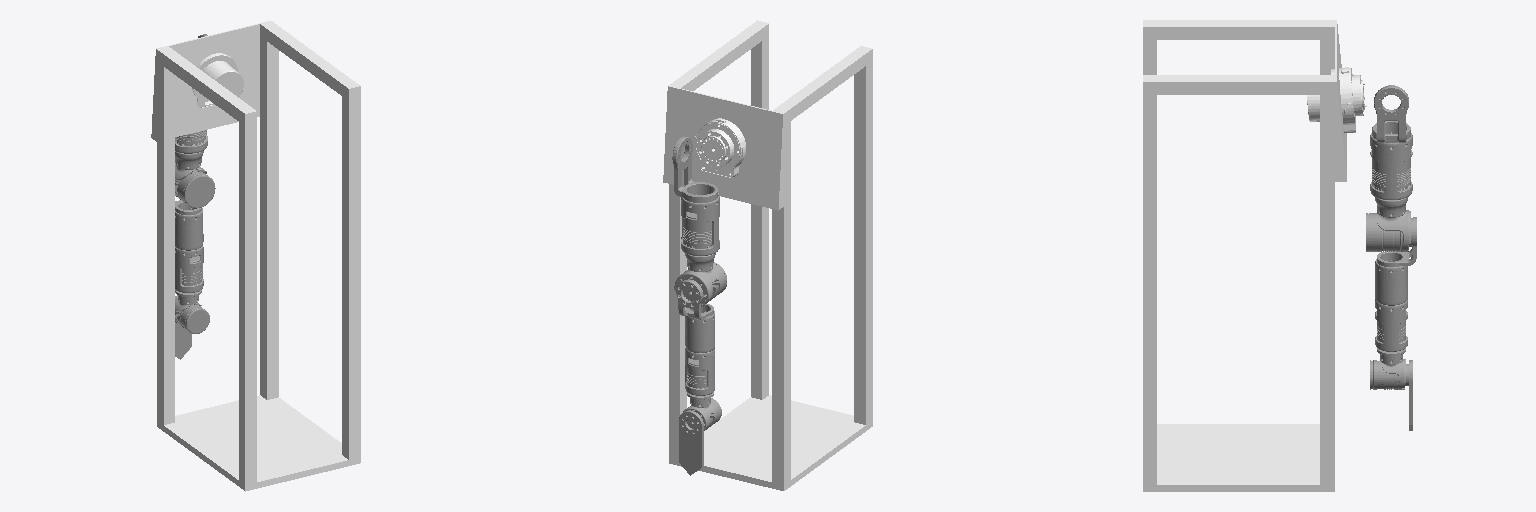
robot.urdf — eyou:
<?xml version="1.0" encoding="utf-8"?>
<!-- This URDF was automatically created by SolidWorks to URDF Exporter! Originally created by Stephen Brawner (brawner@gmail.com) 
     Commit Version: 1.6.0-4-g7f85cfe  Build Version: 1.6.7995.38578
     For more information, please see http://wiki.ros.org/sw_urdf_exporter -->
<robot
  name="eyou">
  <link
    name="base_link">
    <inertial>
      <origin
        xyz="2.76129925816843E-07 0.0686860812481636 0.387526177799413"
        rpy="0 0 0" />
      <mass
        value="3.3451250811703" />
      <inertia
        ixx="0.0346228808664145"
        ixy="-2.16005356441171E-08"
        ixz="3.20436571976386E-08"
        iyy="0.0366794538574689"
        iyz="8.62174734568158E-05"
        izz="0.00965300302293456" />
    </inertial>
    <visual>
      <origin
        xyz="0 0 0"
        rpy="0 0 0" />
      <geometry>
        <mesh
          filename="package://eyou_description/meshes/base_link.STL" />
      </geometry>
      <material
        name="">
        <color
          rgba="1 1 1 1" />
      </material>
    </visual>
    <collision>
      <origin
        xyz="0 0 0"
        rpy="0 0 0" />
      <geometry>
        <mesh
          filename="package://eyou_description/meshes/base_link.STL" />
      </geometry>
    </collision>
  </link>
  <link
    name="link_1">
    <inertial>
      <origin
        xyz="-7.31619633209668E-08 -0.00621067030176778 0.0358684167081429"
        rpy="0 0 0" />
      <mass
        value="0.545146085003045" />
      <inertia
        ixx="0.000276834378213259"
        ixy="-3.37178416921734E-10"
        ixz="1.53946665886174E-08"
        iyy="0.000223041975013736"
        iyz="-2.52469612779214E-06"
        izz="0.000266028101242945" />
    </inertial>
    <visual>
      <origin
        xyz="0 0 0"
        rpy="0 0 0" />
      <geometry>
        <mesh
          filename="package://eyou_description/meshes/link_1.STL" />
      </geometry>
      <material
        name="">
        <color
          rgba="0.698039215686274 0.698039215686274 0.698039215686274 1" />
      </material>
    </visual>
    <collision>
      <origin
        xyz="0 0 0"
        rpy="0 0 0" />
      <geometry>
        <mesh
          filename="package://eyou_description/meshes/link_1.STL" />
      </geometry>
    </collision>
  </link>
  <joint
    name="joint_1"
    type="revolute">
    <origin
      xyz="0 0.16743 0.54426"
      rpy="0 -1.481 -1.5708" />
    <parent
      link="base_link" />
    <child
      link="link_1" />
    <axis
      xyz="0 0 1" />
    <limit
      lower="-3.14"
      upper="3.14"
      effort="20"
      velocity="20" />
  </joint>
  <link
    name="link_2">
    <inertial>
      <origin
        xyz="0.100980933953346 -4.13020112555174E-09 -0.0232814027120222"
        rpy="0 0 0" />
      <mass
        value="0.566804542646458" />
      <inertia
        ixx="0.000240973529471711"
        ixy="1.09062876207421E-10"
        ixz="3.51793517049888E-05"
        iyy="0.000395801602253235"
        iyz="1.00369189049011E-08"
        izz="0.000373883630207562" />
    </inertial>
    <visual>
      <origin
        xyz="0 0 0"
        rpy="0 0 0" />
      <geometry>
        <mesh
          filename="package://eyou_description/meshes/link_2.STL" />
      </geometry>
      <material
        name="">
        <color
          rgba="0.698039215686274 0.698039215686274 0.698039215686274 1" />
      </material>
    </visual>
    <collision>
      <origin
        xyz="0 0 0"
        rpy="0 0 0" />
      <geometry>
        <mesh
          filename="package://eyou_description/meshes/link_2.STL" />
      </geometry>
    </collision>
  </link>
  <joint
    name="joint_2"
    type="revolute">
    <origin
      xyz="0 0.025999 0.0385"
      rpy="1.5708 0.089758 -3.1416" />
    <parent
      link="link_1" />
    <child
      link="link_2" />
    <axis
      xyz="0 0 1" />
    <limit
      lower="-3.14"
      upper="3.14"
      effort="20"
      velocity="20" />
  </joint>
  <link
    name="link_3">
    <inertial>
      <origin
        xyz="-4.16208498082496E-08 0.00348518308627509 0.0509551652689186"
        rpy="0 0 0" />
      <mass
        value="0.487960261130082" />
      <inertia
        ixx="0.000209069248211813"
        ixy="-4.50479264507862E-10"
        ixz="9.81343317332429E-09"
        iyy="0.00015778992400644"
        iyz="2.59592879673137E-06"
        izz="0.00022167240994763" />
    </inertial>
    <visual>
      <origin
        xyz="0 0 0"
        rpy="0 0 0" />
      <geometry>
        <mesh
          filename="package://eyou_description/meshes/link_3.STL" />
      </geometry>
      <material
        name="">
        <color
          rgba="0.698039215686274 0.698039215686274 0.698039215686274 1" />
      </material>
    </visual>
    <collision>
      <origin
        xyz="0 0 0"
        rpy="0 0 0" />
      <geometry>
        <mesh
          filename="package://eyou_description/meshes/link_3.STL" />
      </geometry>
    </collision>
  </link>
  <joint
    name="joint_3"
    type="revolute">
    <origin
      xyz="0.1505 0 -0.026"
      rpy="0 -1.5708 -3.1416" />
    <parent
      link="link_2" />
    <child
      link="link_3" />
    <axis
      xyz="0 0 1" />
    <limit
      lower="-3.14"
      upper="3.14"
      effort="20"
      velocity="20" />
  </joint>
  <link
    name="link_4">
    <inertial>
      <origin
        xyz="0.11386250672796 3.86029971592906E-08 -0.0268390802579066"
        rpy="0 0 0" />
      <mass
        value="0.339977479345778" />
      <inertia
        ixx="0.00010070279663771"
        ixy="3.56293621305165E-10"
        ixz="1.19276464983693E-05"
        iyy="0.000154878961476975"
        iyz="-3.6402283078032E-09"
        izz="0.000150924003373493" />
    </inertial>
    <visual>
      <origin
        xyz="0 0 0"
        rpy="0 0 0" />
      <geometry>
        <mesh
          filename="package://eyou_description/meshes/link_4.STL" />
      </geometry>
      <material
        name="">
        <color
          rgba="0.698039215686274 0.698039215686274 0.698039215686274 1" />
      </material>
    </visual>
    <collision>
      <origin
        xyz="0 0 0"
        rpy="0 0 0" />
      <geometry>
        <mesh
          filename="package://eyou_description/meshes/link_4.STL" />
      </geometry>
    </collision>
  </link>
  <joint
    name="joint_4"
    type="revolute">
    <origin
      xyz="0 -0.028999 0.0575"
      rpy="-0.29071 -1.5708 1.8615" />
    <parent
      link="link_3" />
    <child
      link="link_4" />
    <axis
      xyz="0 0 1" />
    <limit
      lower="-3.14"
      upper="3.14"
      effort="20"
      velocity="20" />
  </joint>
  <link
    name="link_5">
    <inertial>
      <origin
        xyz="1.72462451261422E-07 0.00399188080525967 0.0363611309832228"
        rpy="0 0 0" />
      <mass
        value="0.231241750036395" />
      <inertia
        ixx="6.29003401983138E-05"
        ixy="-4.90047970495538E-10"
        ixz="6.12448538456648E-09"
        iyy="4.3333639583119E-05"
        iyz="5.69065551862779E-07"
        izz="6.59580049014524E-05" />
    </inertial>
    <visual>
      <origin
        xyz="0 0 0"
        rpy="0 0 0" />
      <geometry>
        <mesh
          filename="package://eyou_description/meshes/link_5.STL" />
      </geometry>
      <material
        name="">
        <color
          rgba="0.698039215686274 0.698039215686274 0.698039215686274 1" />
      </material>
    </visual>
    <collision>
      <origin
        xyz="0 0 0"
        rpy="0 0 0" />
      <geometry>
        <mesh
          filename="package://eyou_description/meshes/link_5.STL" />
      </geometry>
    </collision>
  </link>
  <joint
    name="joint_5"
    type="revolute">
    <origin
      xyz="0.1708 0 -0.029"
      rpy="-1.5708 0 -1.5708" />
    <parent
      link="link_4" />
    <child
      link="link_5" />
    <axis
      xyz="0 0 1" />
    <limit
      lower="-3.14"
      upper="3.14"
      effort="20"
      velocity="20" />
  </joint>
  <link
    name="link_6">
    <inertial>
      <origin
        xyz="0.0322169838813506 3.58598647869224E-13 0.00298456390958041"
        rpy="0 0 0" />
      <mass
        value="0.0568436477066974" />
      <inertia
        ixx="7.50684331207047E-06"
        ixy="1.45545518194372E-16"
        ixz="-2.826858912056E-08"
        iyy="3.8145735025738E-05"
        iyz="1.11071701257717E-16"
        izz="4.5312861142806E-05" />
    </inertial>
    <visual>
      <origin
        xyz="0 0 0"
        rpy="0 0 0" />
      <geometry>
        <mesh
          filename="package://eyou_description/meshes/link_6.STL" />
      </geometry>
      <material
        name="">
        <color
          rgba="0.698039215686274 0.698039215686274 0.698039215686274 1" />
      </material>
    </visual>
    <collision>
      <origin
        xyz="0 0 0"
        rpy="0 0 0" />
      <geometry>
        <mesh
          filename="package://eyou_description/meshes/link_6.STL" />
      </geometry>
    </collision>
  </link>
  <joint
    name="joint_6"
    type="revolute">
    <origin
      xyz="0 -0.0233 0.041"
      rpy="1.5708 -1.5708 0" />
    <parent
      link="link_5" />
    <child
      link="link_6" />
    <axis
      xyz="0 0 1" />
    <limit
      lower="-3.14"
      upper="3.14"
      effort="20"
      velocity="20" />
  </joint>
  <link name="grasp_point" />
  <joint name="grasp_joint" type="fixed">
      <parent link="link_6" />
      <child link="grasp_point" />
      <origin xyz="0.1 0 0" rpy="1.5708 -1.5708 1.5708" />
  </joint>
</robot>

--- What the picture shows (computed from the rendered views, not written in the file) ---
The picture shows the robot from 3 angles, left to right: view 1: azimuth 30°, elevation 25°; view 2: azimuth 150°, elevation 25°; view 3: azimuth 270°, elevation 25°; orthographic projection.
Robot: eyou — 8 links, 7 joints (6 revolute, 1 fixed); root link base_link; default pose: every joint at zero.
Visible links, largest first — view 1: base_link, link_4, link_3, link_5, link_2; view 2: base_link, link_2, link_4, link_3, link_6, link_5; view 3: base_link, link_2, link_4, link_3, link_5.
Link boxes in pixels (box(x1,y1,x2,y2)): base_link: box(151, 21, 360, 491); link_4: box(175, 200, 203, 292); link_3: box(175, 151, 215, 207); link_5: box(175, 290, 209, 333); link_2: box(175, 34, 207, 153); base_link: box(663, 20, 872, 490); link_2: box(672, 136, 719, 255); link_4: box(676, 280, 714, 395); link_3: box(674, 253, 726, 306); link_6: box(679, 410, 703, 475); link_5: box(683, 392, 721, 430); base_link: box(1143, 20, 1366, 491); link_2: box(1370, 85, 1412, 199); link_4: box(1375, 217, 1416, 351); link_3: box(1366, 197, 1412, 251); link_5: box(1370, 348, 1408, 389).
Bounding box of the posed robot: 0.195 × 0.3708 × 0.61 m (x, y, z).
6 mesh visuals loaded from 7 distinct referenced files (6 binary STL); not drawn: 1 (reference not matched to a file when rendering).
